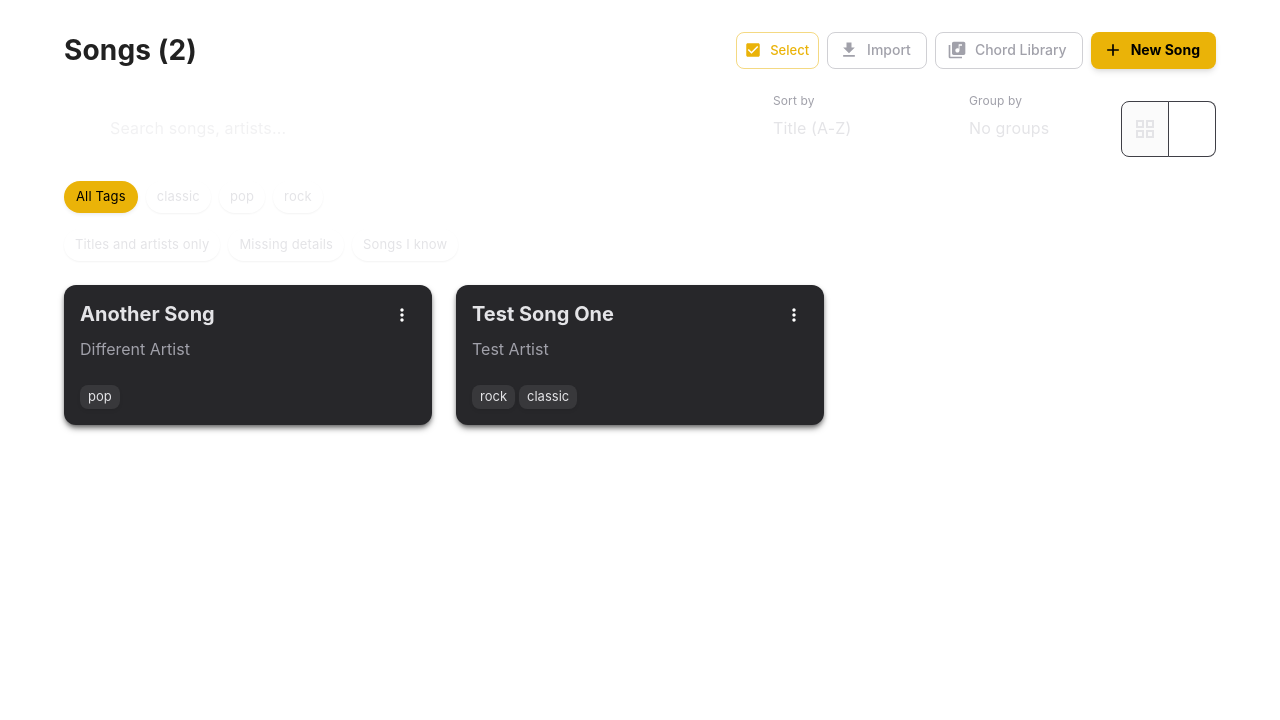
SongList › gathers the songs into groups
Press the mouse on the dropdown named "Group by": (1009, 128) [969,118,1049,138]
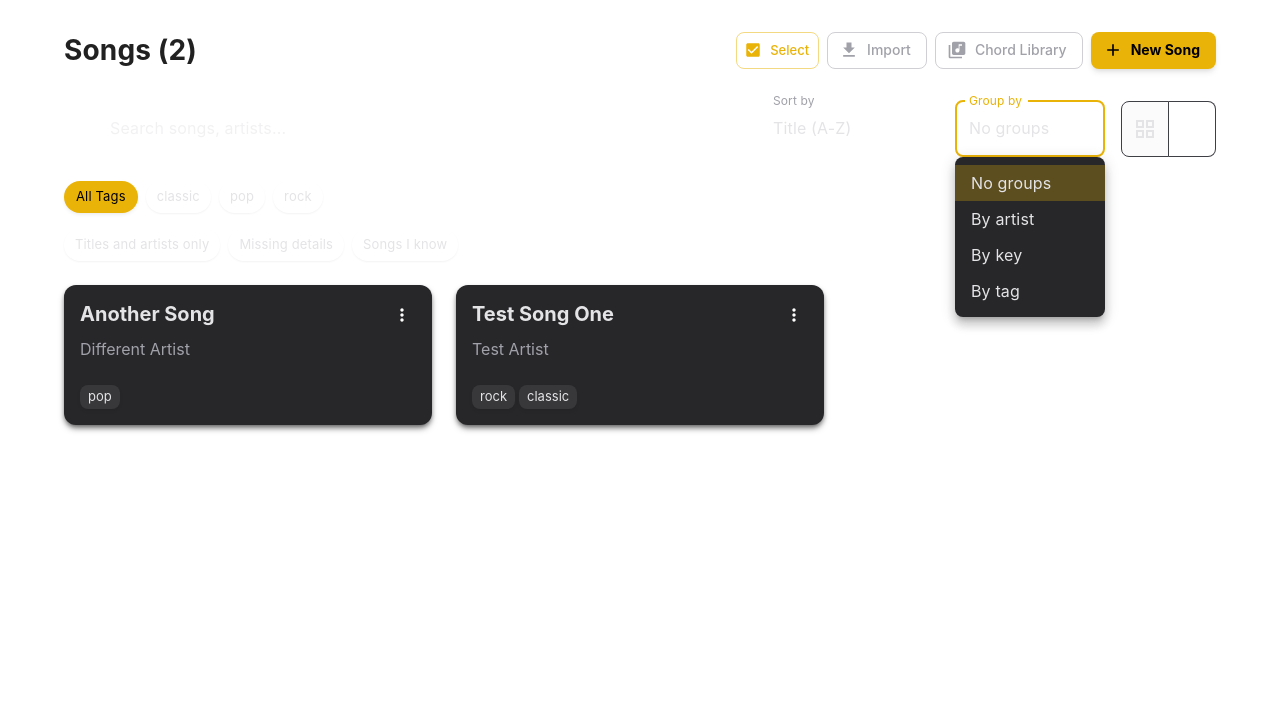
Click the option "By artist": click(1003, 219) [971,209,1034,229]
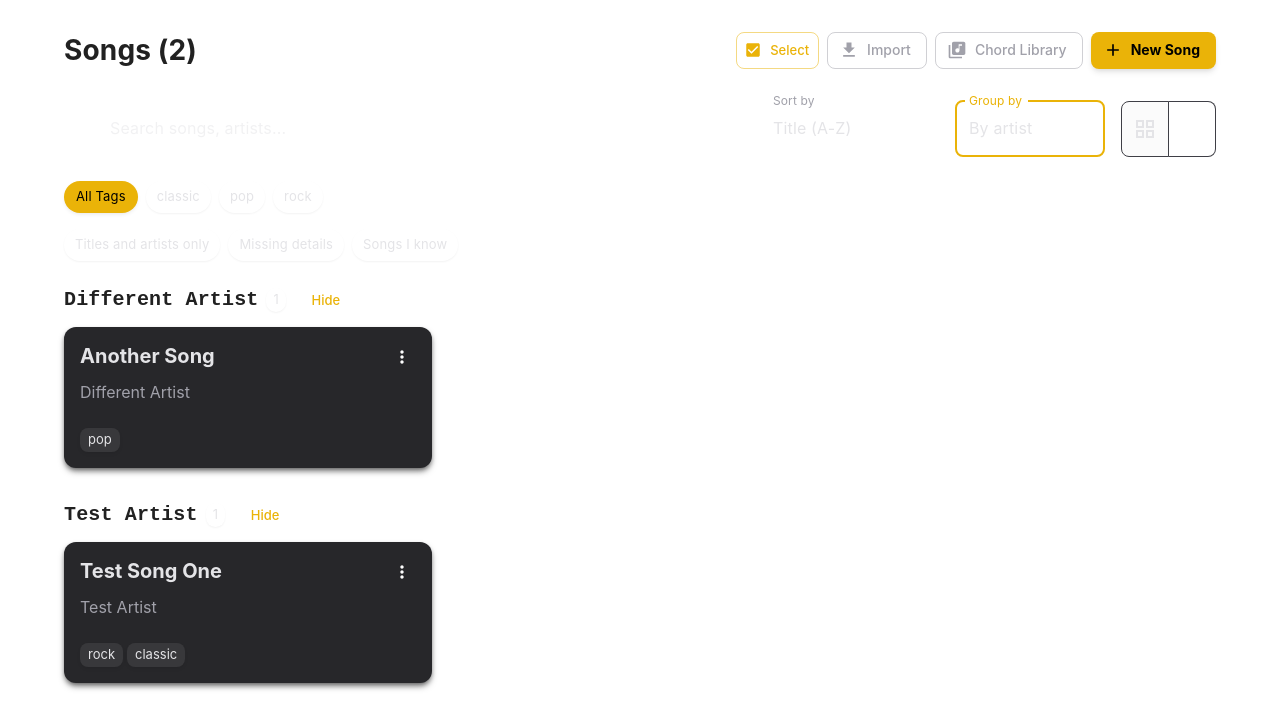
expect the 1st heading "Test Artist" is shown: met, box [64,502,198,528]
expect the 1st heading "Different Artist" is shown: met, box [64,286,258,313]
